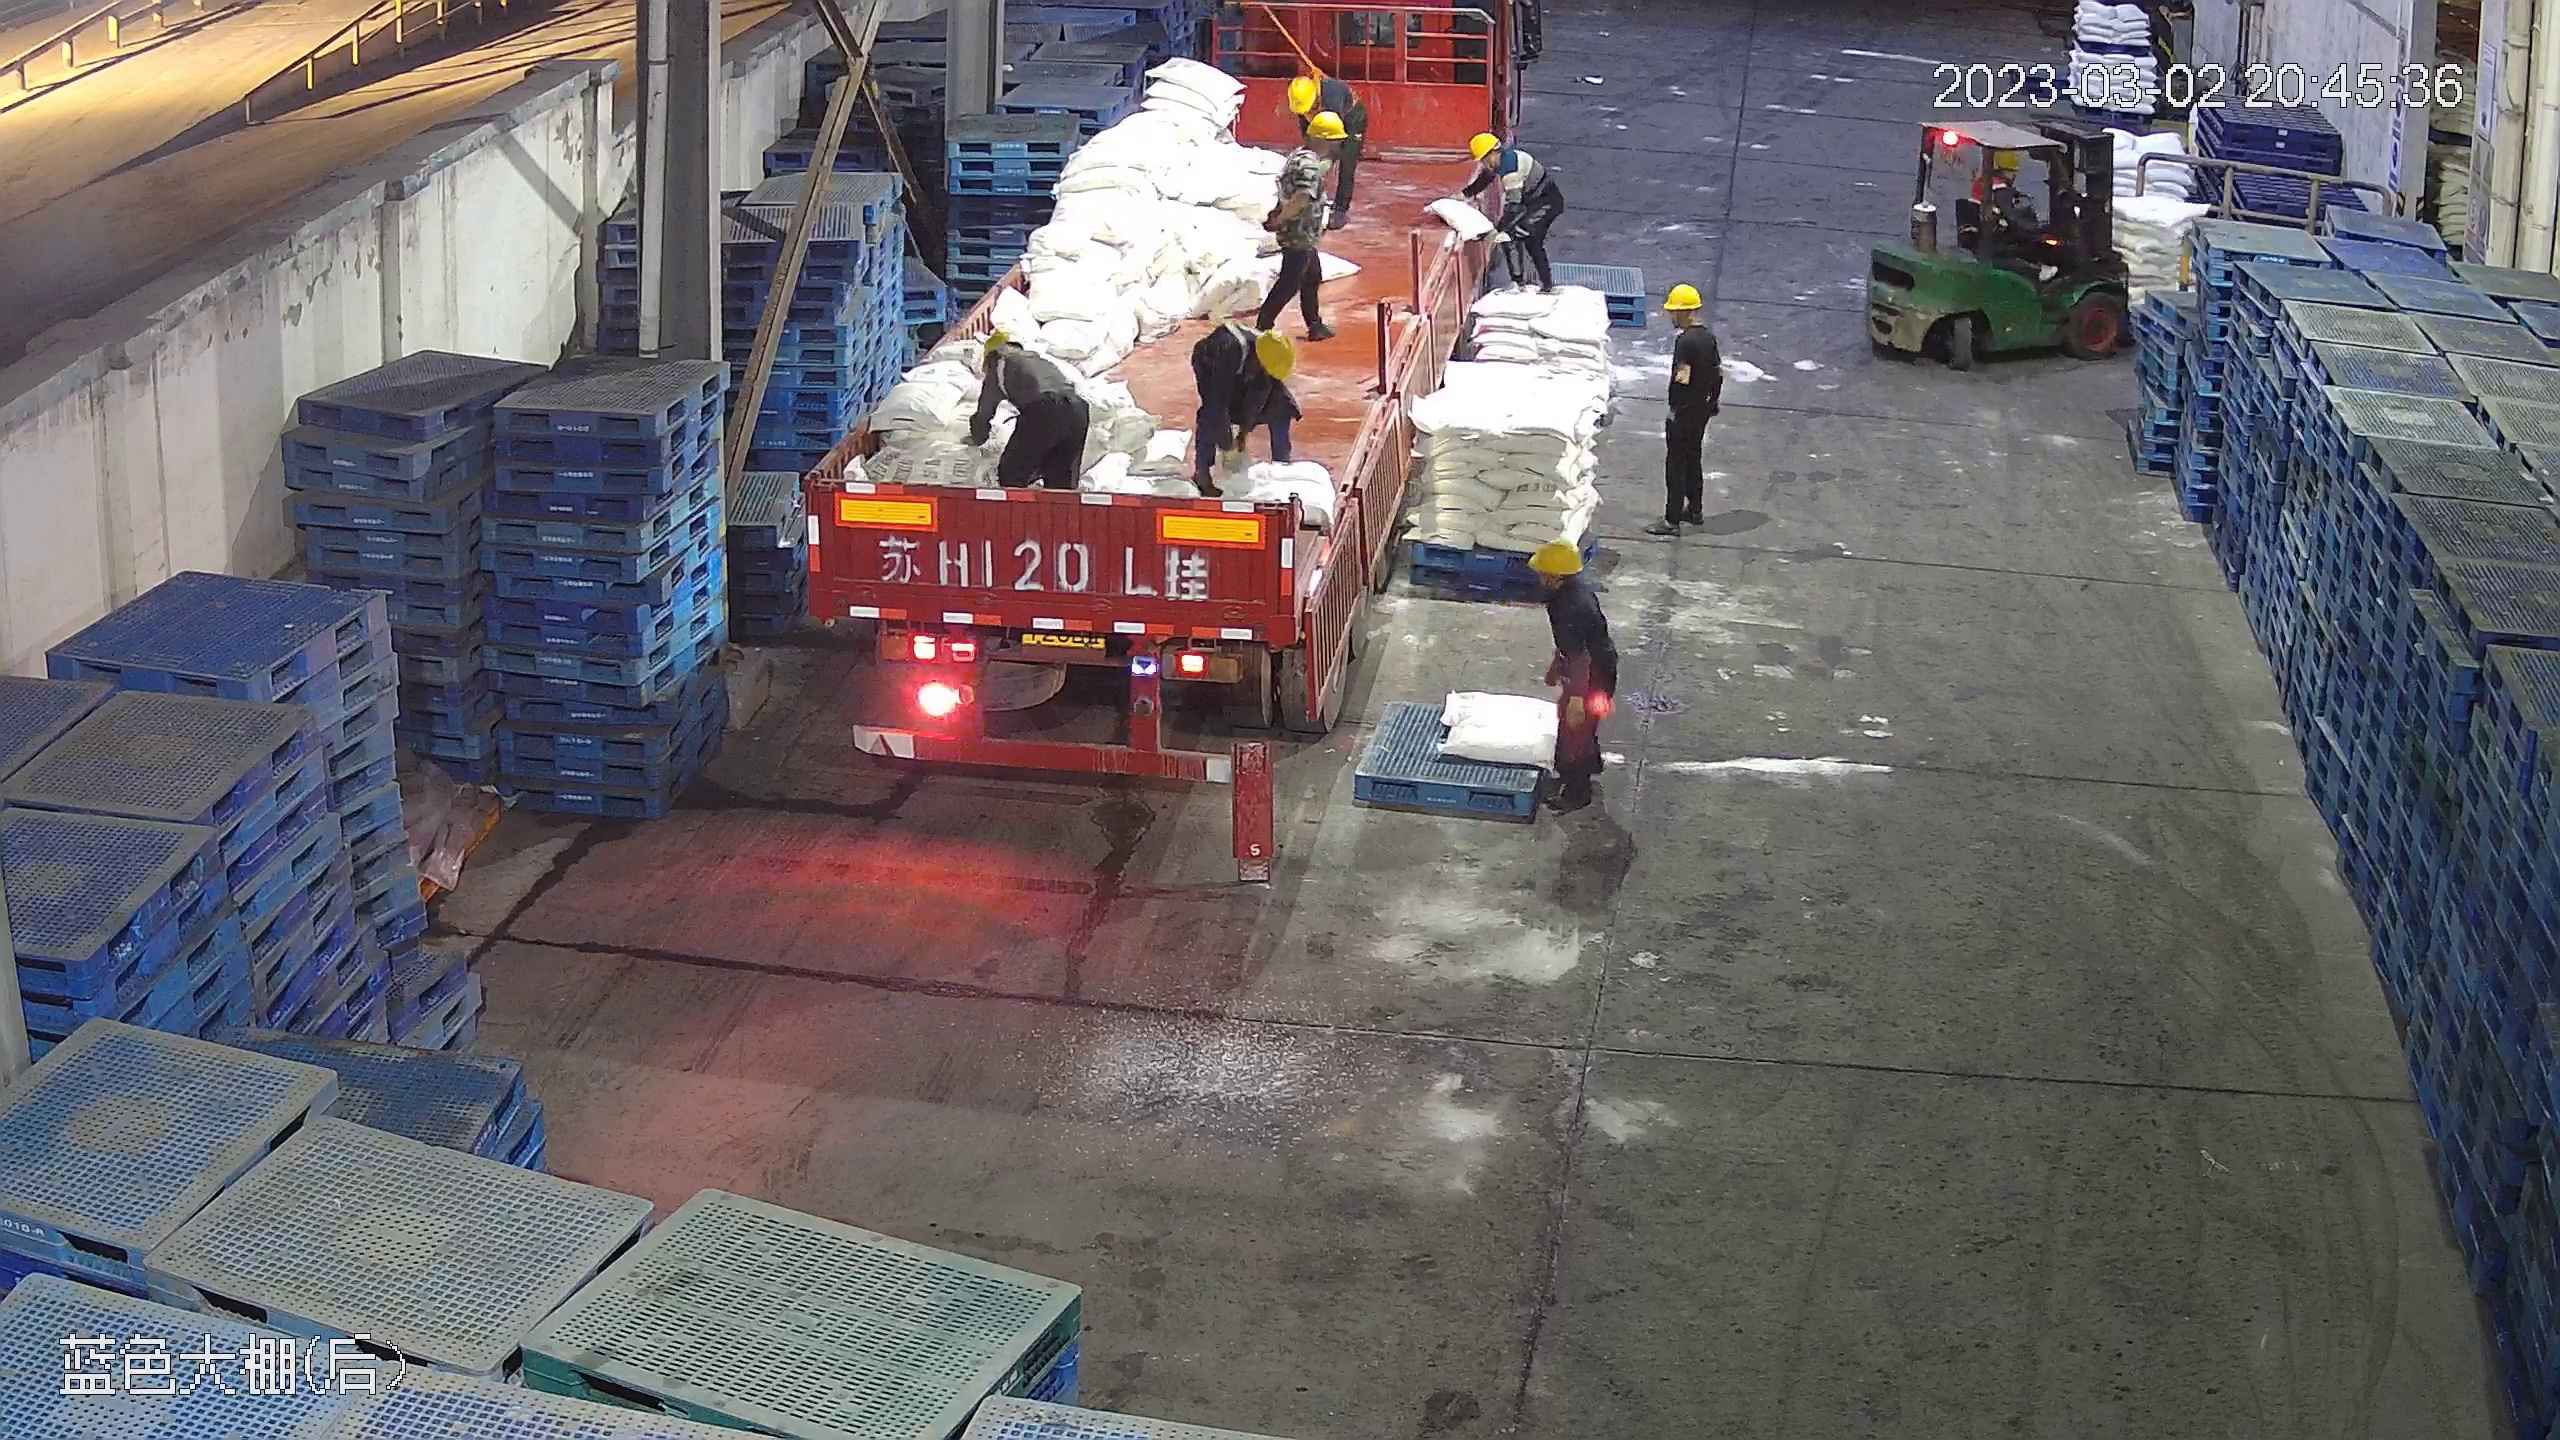belt: (1196, 303, 1262, 373), (986, 344, 1052, 399), (1278, 149, 1332, 211), (1300, 63, 1347, 124)
head: (1527, 537, 1605, 634), (1209, 322, 1306, 401), (975, 328, 1056, 396), (1276, 109, 1352, 180), (1663, 283, 1719, 360), (1284, 68, 1356, 129), (1465, 131, 1525, 192), (1980, 147, 2028, 207)
helmet: (1255, 327, 1303, 383), (1530, 537, 1582, 574), (1301, 109, 1351, 142), (1284, 67, 1320, 109), (978, 325, 1019, 360), (1663, 283, 1704, 311), (1468, 131, 1499, 160), (1992, 147, 2022, 168)
people: (1522, 539, 1615, 824), (1255, 109, 1350, 338), (965, 323, 1090, 492), (1185, 317, 1304, 490), (1453, 131, 1565, 307), (1653, 280, 1723, 533), (1283, 61, 1368, 210), (1980, 147, 2054, 253)
truck: (802, 29, 1496, 768)
